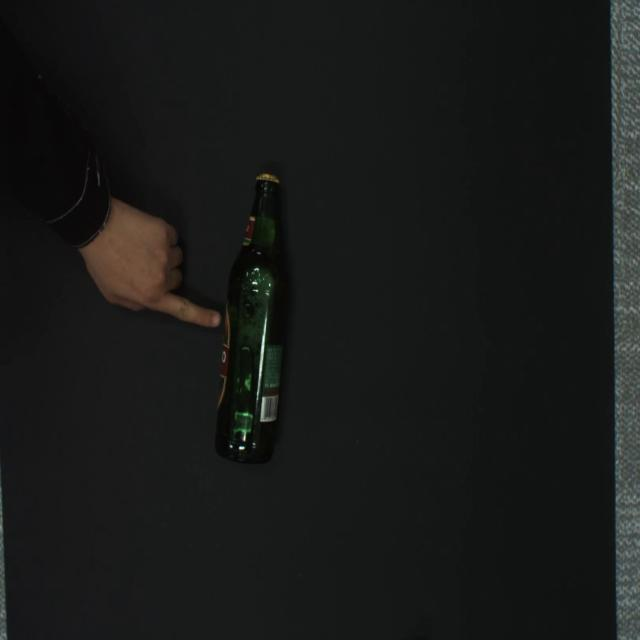beer-bottle: (215, 173, 287, 464)
